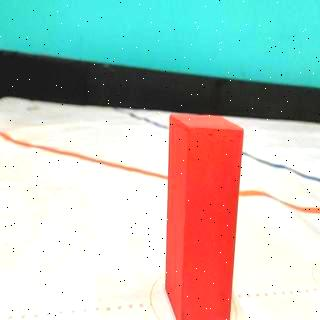redbox: (164, 111, 243, 320)
